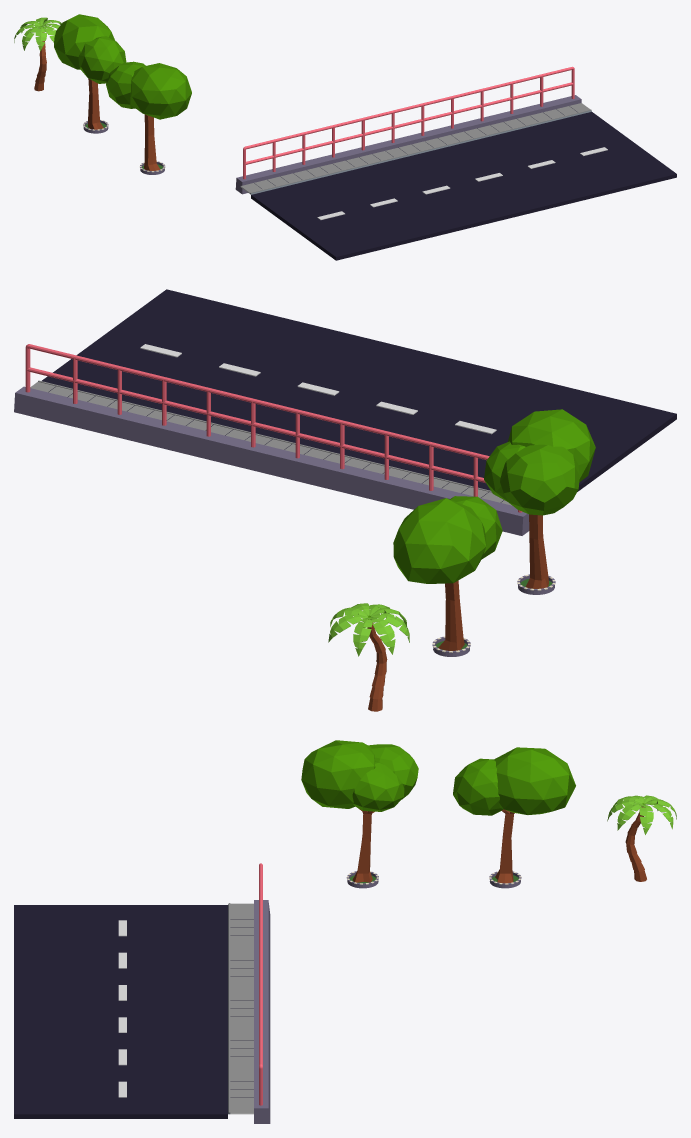
The model's file is Road.fbx.
3 views of the same model, one above another, from view 1: azimuth 30°, elevation 25°; view 2: azimuth 150°, elevation 25°; view 3: azimuth 270°, elevation 25° (orthographic). The views are drawn at different scales.
Visible parts, largest first — view 1: Cube.004, Icosphere.001, Cube, Sphere.001; view 2: Cube.004, Icosphere.001, Cube, Sphere.001, Circle; view 3: Cube.004, Icosphere.001, Cube, Sphere.001, Circle.
Part boxes in pixels (box(x1,y1,x2,y2)): Cube.004: box(235, 66, 676, 260); Icosphere.001: box(106, 61, 191, 174); Cube: box(54, 14, 126, 133); Sphere.001: box(14, 17, 61, 51); Cube.004: box(14, 289, 676, 535); Icosphere.001: box(484, 409, 595, 594); Cube: box(393, 496, 502, 656); Sphere.001: box(328, 603, 409, 656); Circle: box(367, 616, 387, 711); Cube.004: box(14, 863, 270, 1123); Icosphere.001: box(301, 740, 418, 888); Cube: box(453, 747, 575, 888); Sphere.001: box(607, 795, 676, 834); Circle: box(625, 803, 646, 881).
Size of the model in its own units: 14389 by 3686 by 15638.
